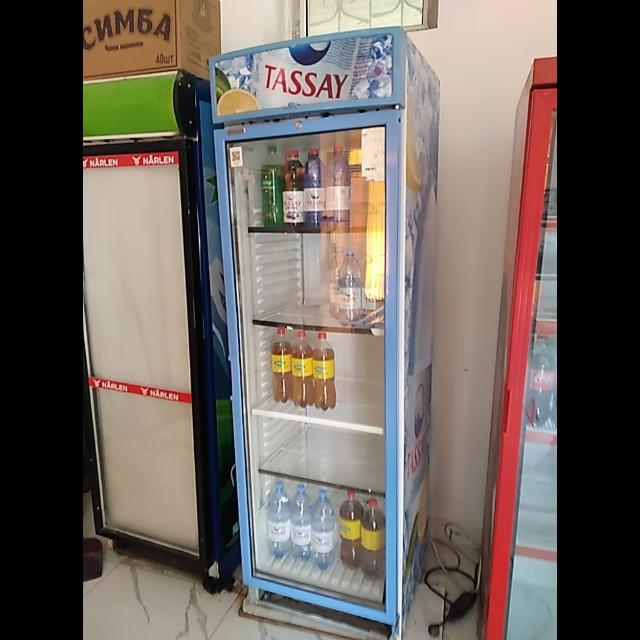Cooling-Display: (208, 24, 406, 624)
